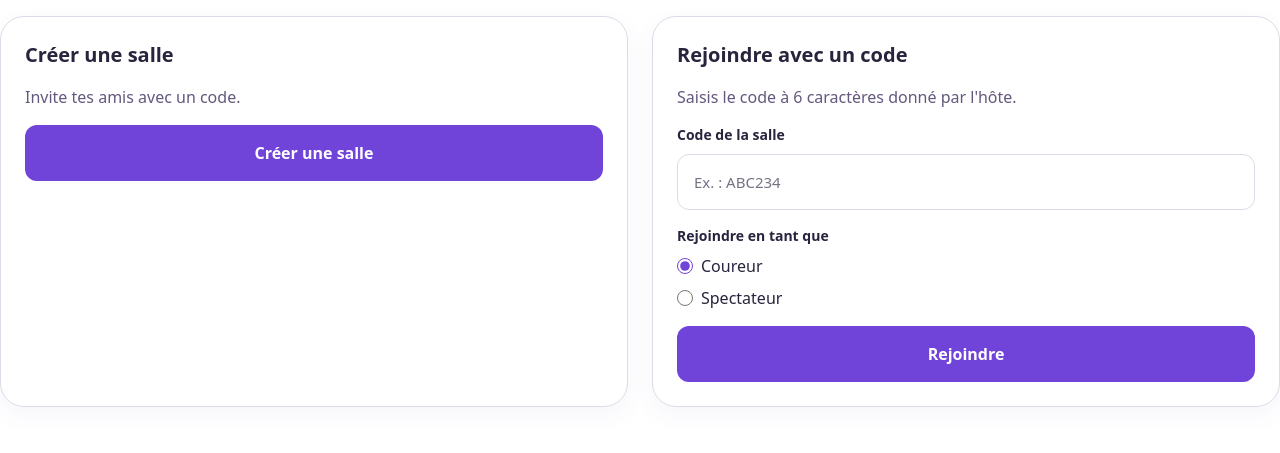
page de jeu, membre hors salle (fr) › n'ouvre rien pour un code invalide
In the field labelled "Code de la salle": (966, 182) [677, 154, 1255, 210], type "12"
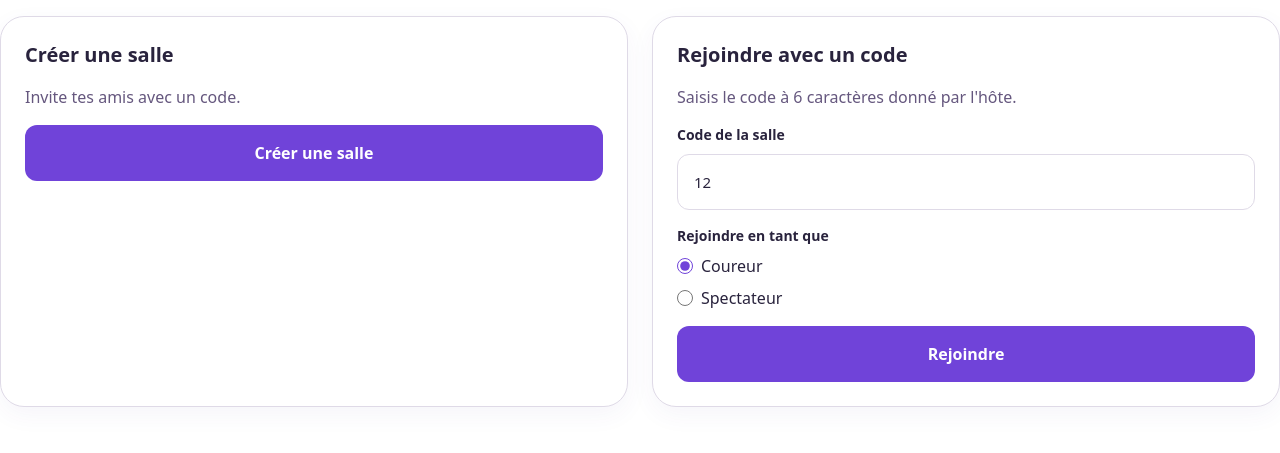
Click the button "Rejoindre": click(966, 354) [677, 326, 1255, 382]
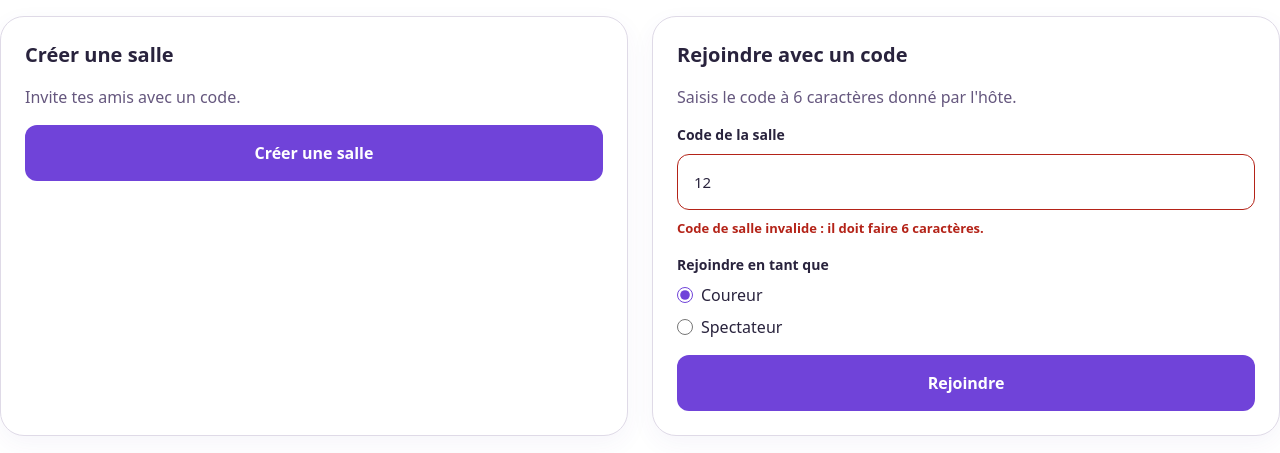
Check: the text "Code de salle invalide : il doit faire 6 caractères." is shown, box [677, 219, 984, 237]
